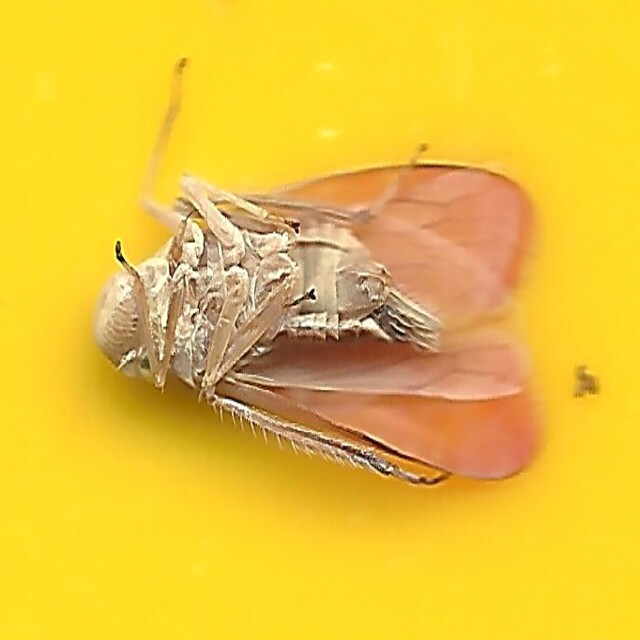Hemiptera: (94, 151, 546, 489)
